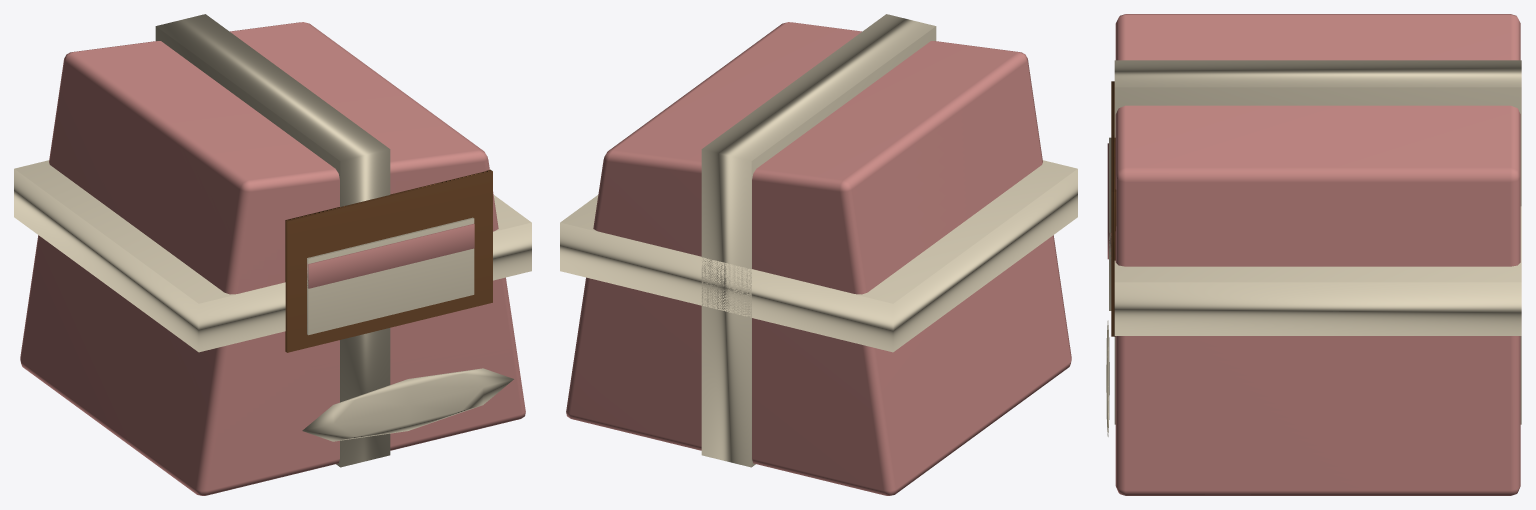
The model's file is cargo_cake_ruined.glb.
The picture shows the model from 3 angles, left to right: view 1: azimuth 30°, elevation 25°; view 2: azimuth 150°, elevation 25°; view 3: azimuth 270°, elevation 25°; orthographic projection. The views are drawn at different scales.
Visible parts, largest first — view 1: cargo_cake_ruined; view 2: cargo_cake_ruined; view 3: cargo_cake_ruined.
Part boxes in pixels (x1=…): cargo_cake_ruined: x1=14, y1=14, x2=531, y2=495; cargo_cake_ruined: x1=560, y1=14, x2=1077, y2=495; cargo_cake_ruined: x1=1106, y1=14, x2=1521, y2=495.
Size of the model in its own units: 0.502 by 0.441 by 0.492.
